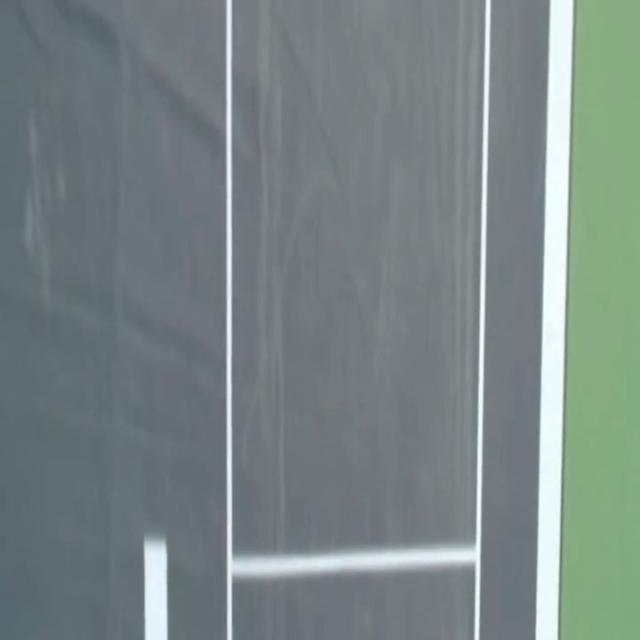center: (144, 536, 167, 639)
right: (536, 0, 572, 639)
